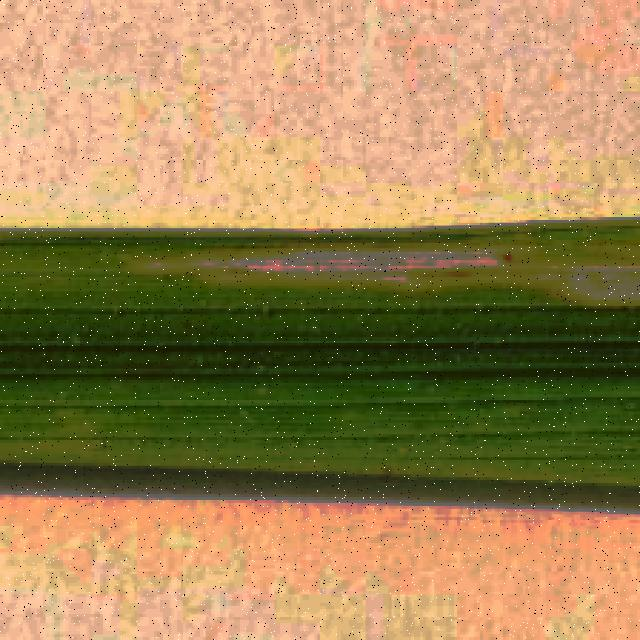unhealth: (45, 236, 640, 319)
